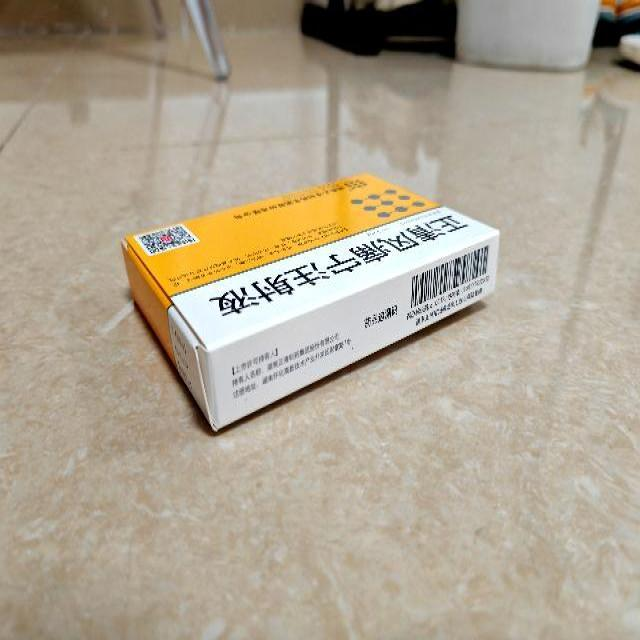box: (122, 171, 500, 434)
